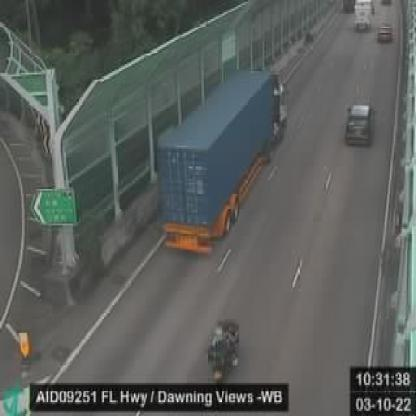Car: (344, 99, 372, 144), (378, 23, 393, 38)
Truck: (158, 67, 288, 248), (353, 0, 371, 29)
